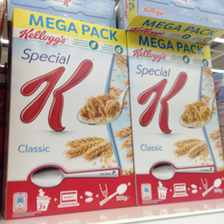cereal: (8, 8, 136, 218), (127, 30, 224, 205)
